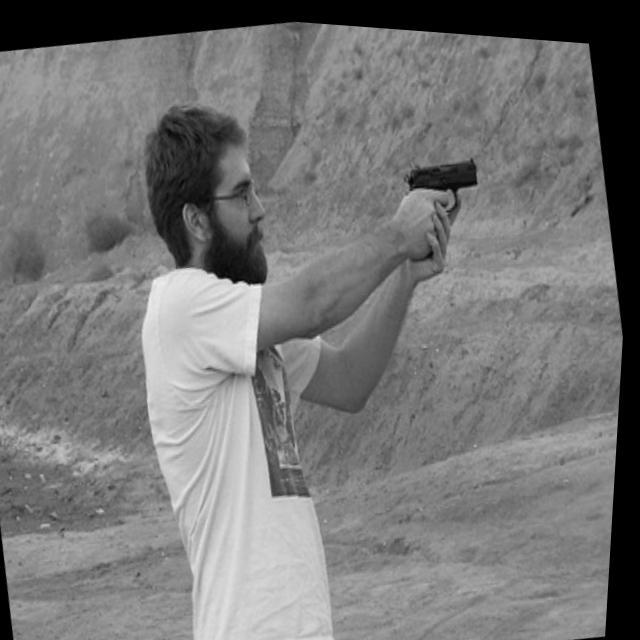weapon: (400, 141, 490, 216)
